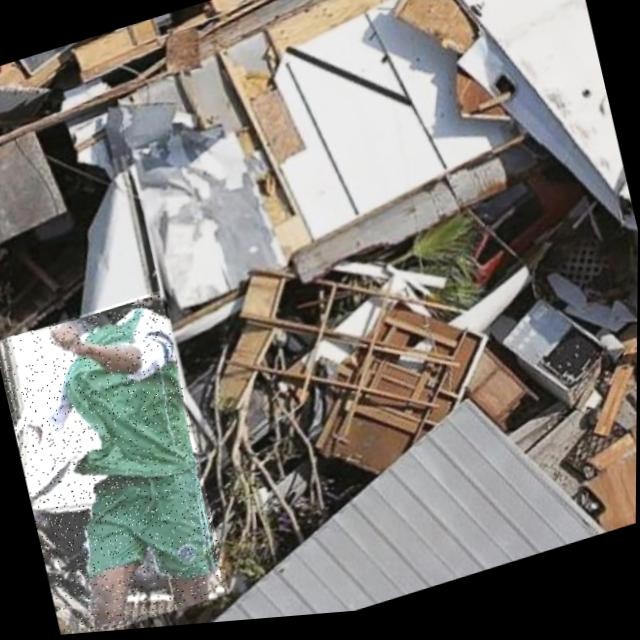Person in Rubble: (0, 288, 231, 640)
